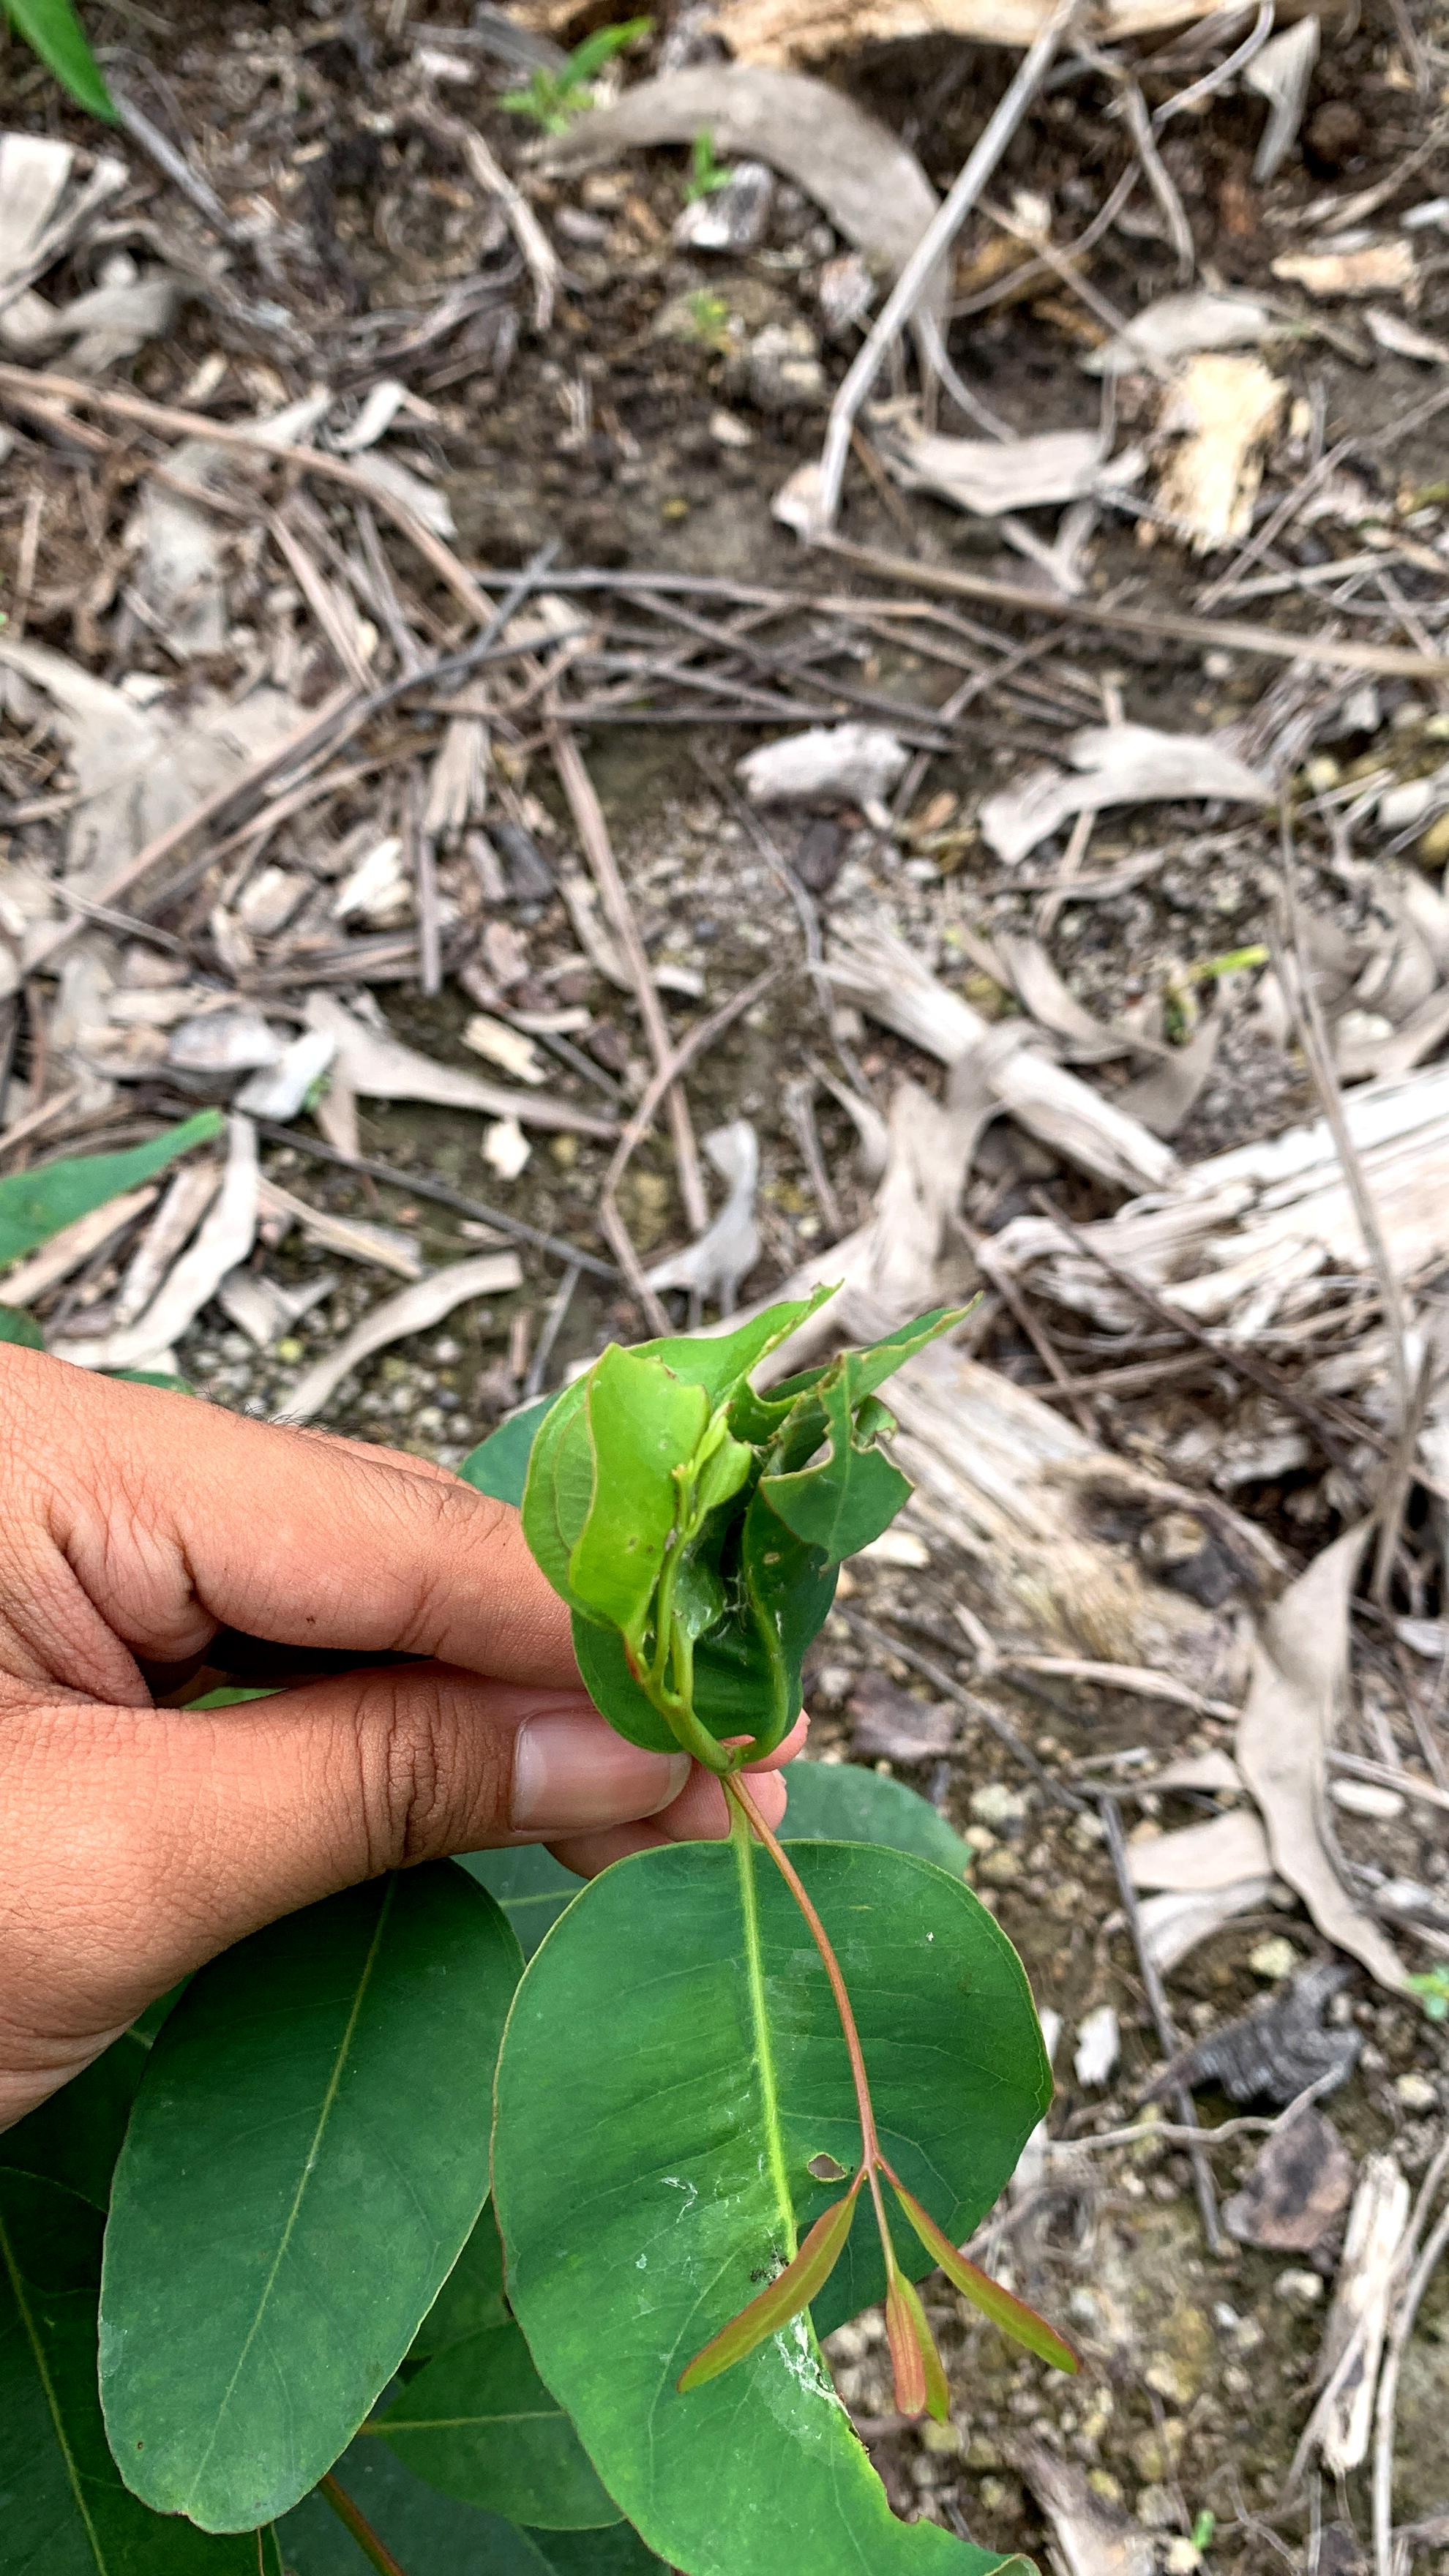Leaf Roller - Leaf: (534, 1284, 908, 1759)
